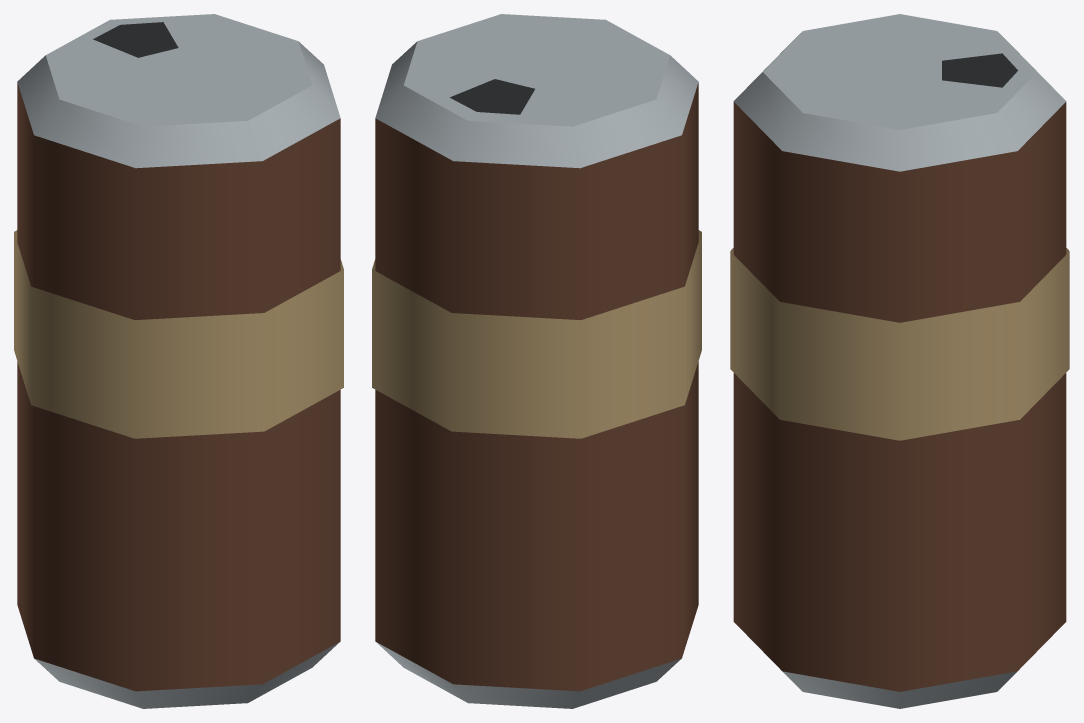
The model's file is clutter_soda1.fbx.
3 views of the same model, side by side, from view 1: azimuth 30°, elevation 25°; view 2: azimuth 150°, elevation 25°; view 3: azimuth 270°, elevation 25° (orthographic).
Parts seen in each view (by area): view 1: Cylinder05; view 2: Cylinder05; view 3: Cylinder05.
Part boxes in pixels (left/top/right/bottom): Cylinder05: left=14, top=14, right=343, bottom=708; Cylinder05: left=372, top=14, right=701, bottom=708; Cylinder05: left=730, top=14, right=1069, bottom=708.
Bounding box in the file's own units: 179 × 179 × 338.
